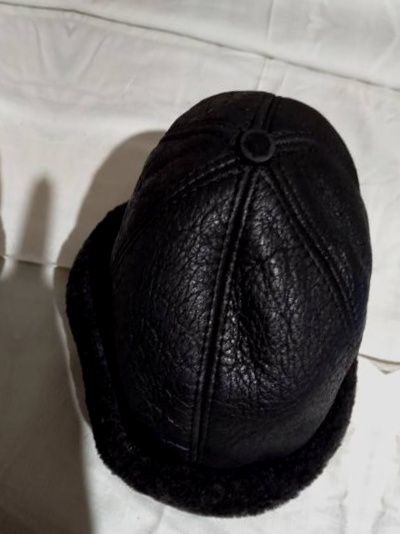Hat: (22, 33, 400, 524), (0, 0, 43, 457), (360, 91, 400, 534)
